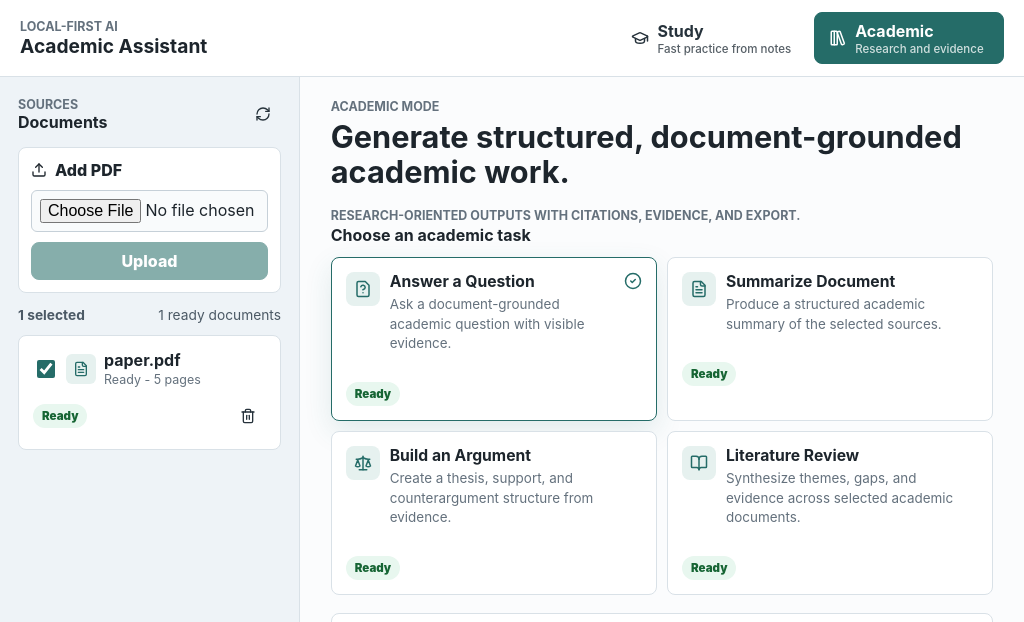
Test: renders dual-mode workspace, document, task, output, and evidence regions
Expected: the element named "Product mode" is shown, [616,12,1004,64]
Expected: the tab "Academic Research and evidence" is shown, [814,12,1004,64]
Click the tab "Study Fast practice from notes".
click(711, 38)  # box [616,12,806,64]
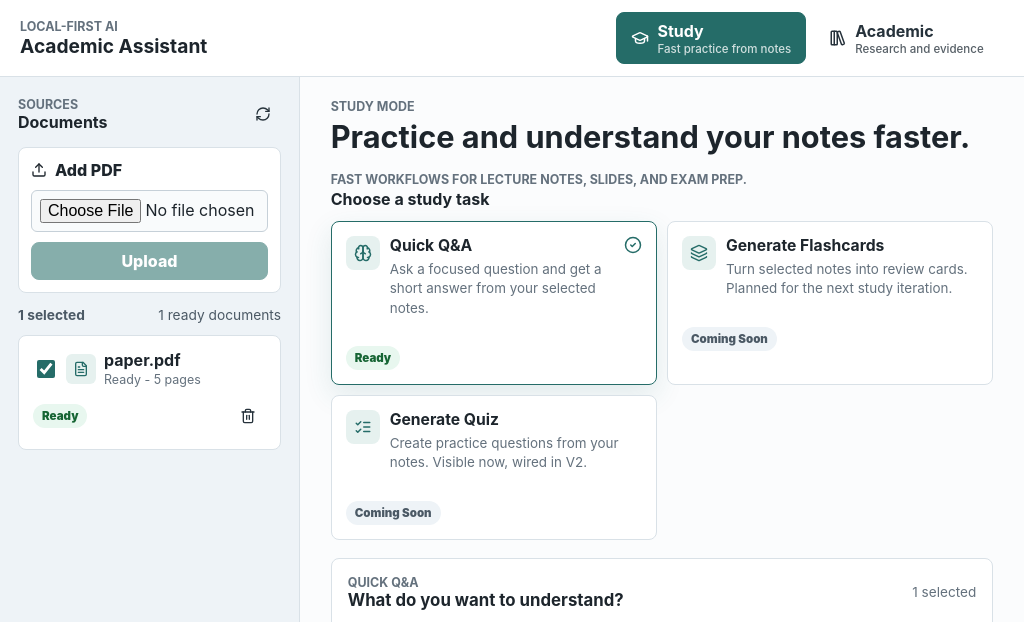
Result: the heading "Practice and understand your notes faster." is shown at [331,119,993,154]
Result: the button "Quick Q&A" is shown at [331,221,657,385]
Result: the button "Generate Flashcards" is shown at [667,221,993,385]
